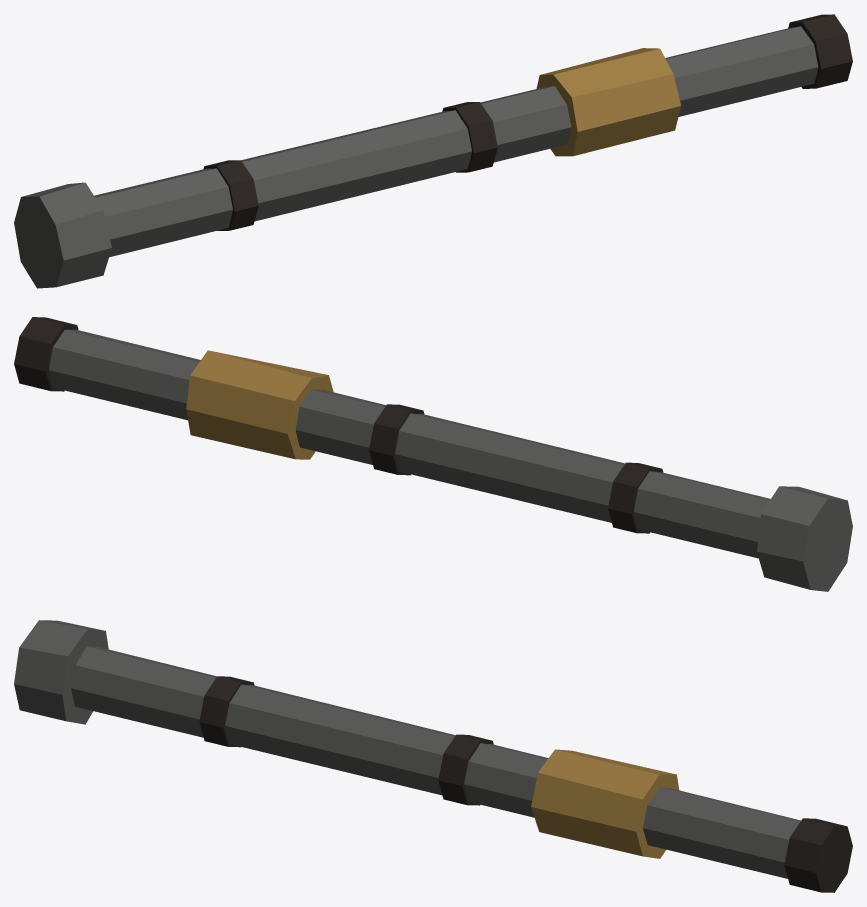
Rendered from wbar_tank.glb.
The picture shows the model from 3 angles, top to bottom: view 1: azimuth 30°, elevation 25°; view 2: azimuth 150°, elevation 25°; view 3: azimuth 330°, elevation 25°; orthographic projection.
Visible parts, largest first — view 1: wbar_tank; view 2: wbar_tank; view 3: wbar_tank.
Part boxes in pixels (x1=…): wbar_tank: x1=14, y1=14, x2=852, y2=288; wbar_tank: x1=14, y1=317, x2=852, y2=591; wbar_tank: x1=14, y1=620, x2=852, y2=892.
Size of the model in its own units: 2 by 0.2263 by 0.217.
